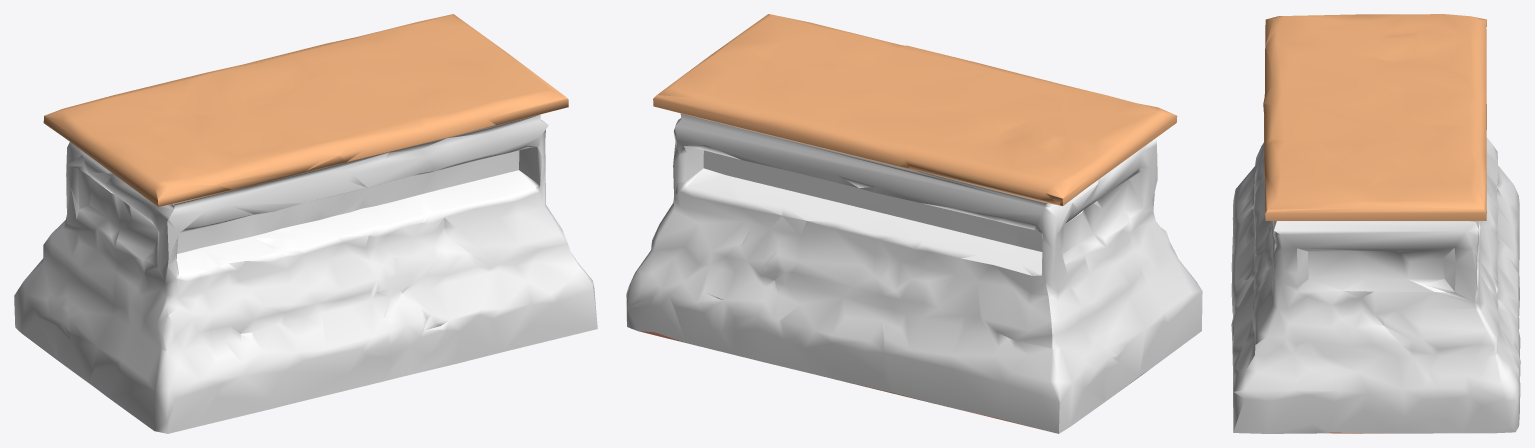
File: Altar2_fbx.fbx
3 renders of one model, left to right at view 1: azimuth 30°, elevation 25°; view 2: azimuth 150°, elevation 25°; view 3: azimuth 270°, elevation 25°, orthographic. The views are drawn at different scales.
Visible parts, largest first — view 1: Altar1; view 2: Altar1; view 3: Altar1.
Boxes of the visible parts, x1,y1,x2,y2 form: Altar1: [14, 14, 597, 433]; Altar1: [626, 14, 1202, 433]; Altar1: [1231, 14, 1520, 433].
Bounding box in the file's own units: 4.73 × 2.37 × 2.77.
